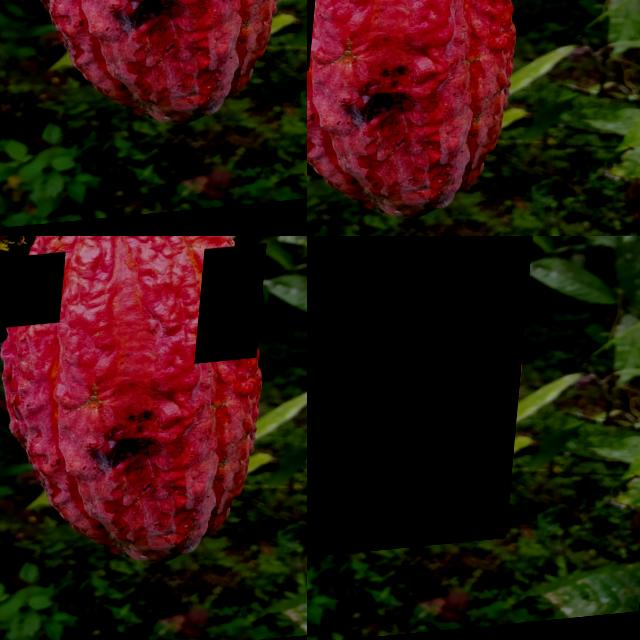Fitoftora: (307, 236, 544, 568), (0, 258, 69, 333)
Sana: (67, 245, 193, 341), (201, 254, 271, 373), (22, 304, 74, 387)
